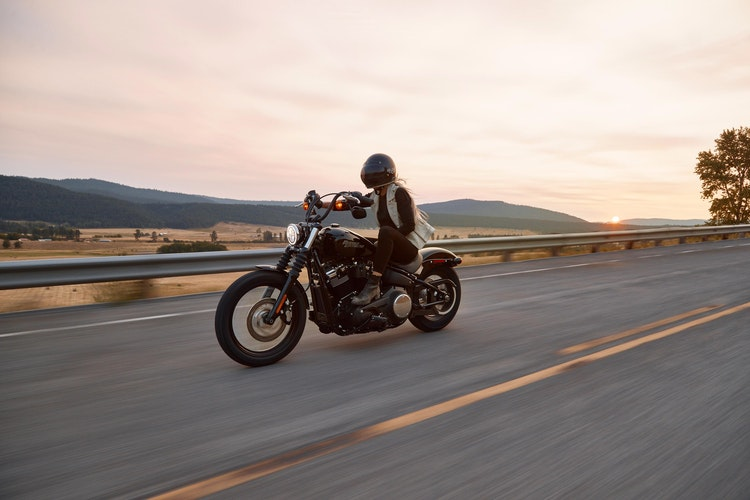helmet: (358, 151, 403, 192)
